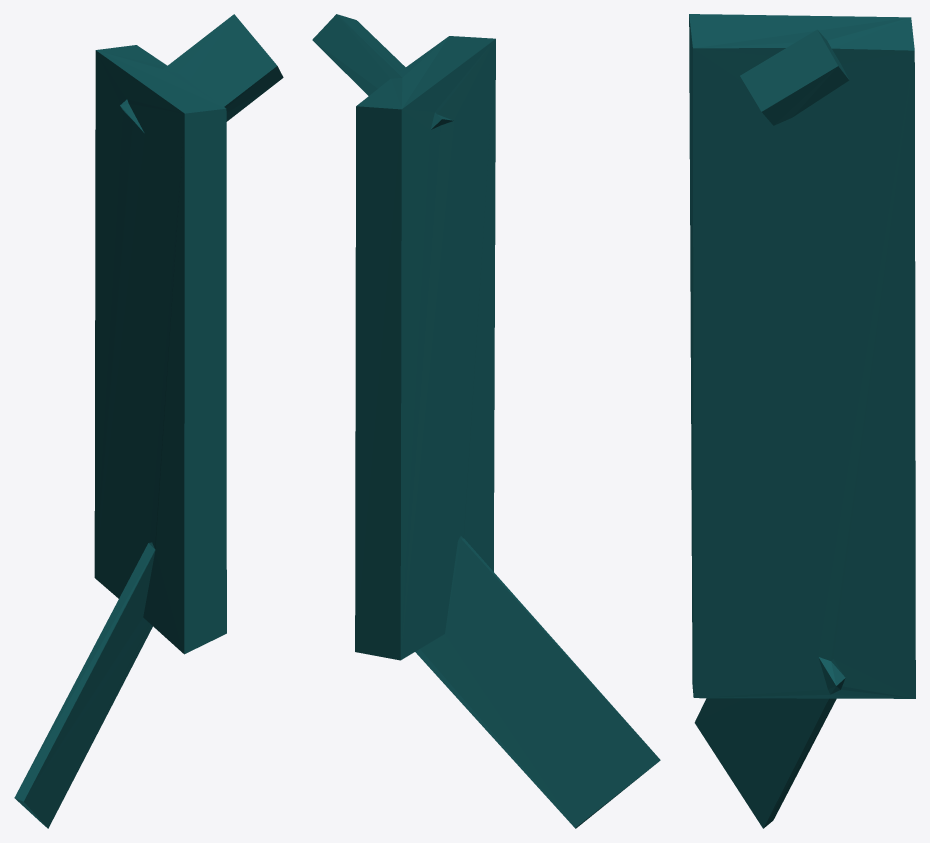
The picture shows the model from 3 angles, left to right: view 1: azimuth 30°, elevation 25°; view 2: azimuth 150°, elevation 25°; view 3: azimuth 270°, elevation 25°; orthographic projection. The views are drawn at different scales.
Visible parts, largest first — view 1: 174_Cube.722; view 2: 174_Cube.722; view 3: 174_Cube.722.
Boxes of the visible parts, <box> form: 174_Cube.722: <box>14,14,283,828</box>; 174_Cube.722: <box>312,14,660,828</box>; 174_Cube.722: <box>689,14,915,828</box>.
Bounding box in the file's own units: 6.93 × 16.95 × 3.77.
